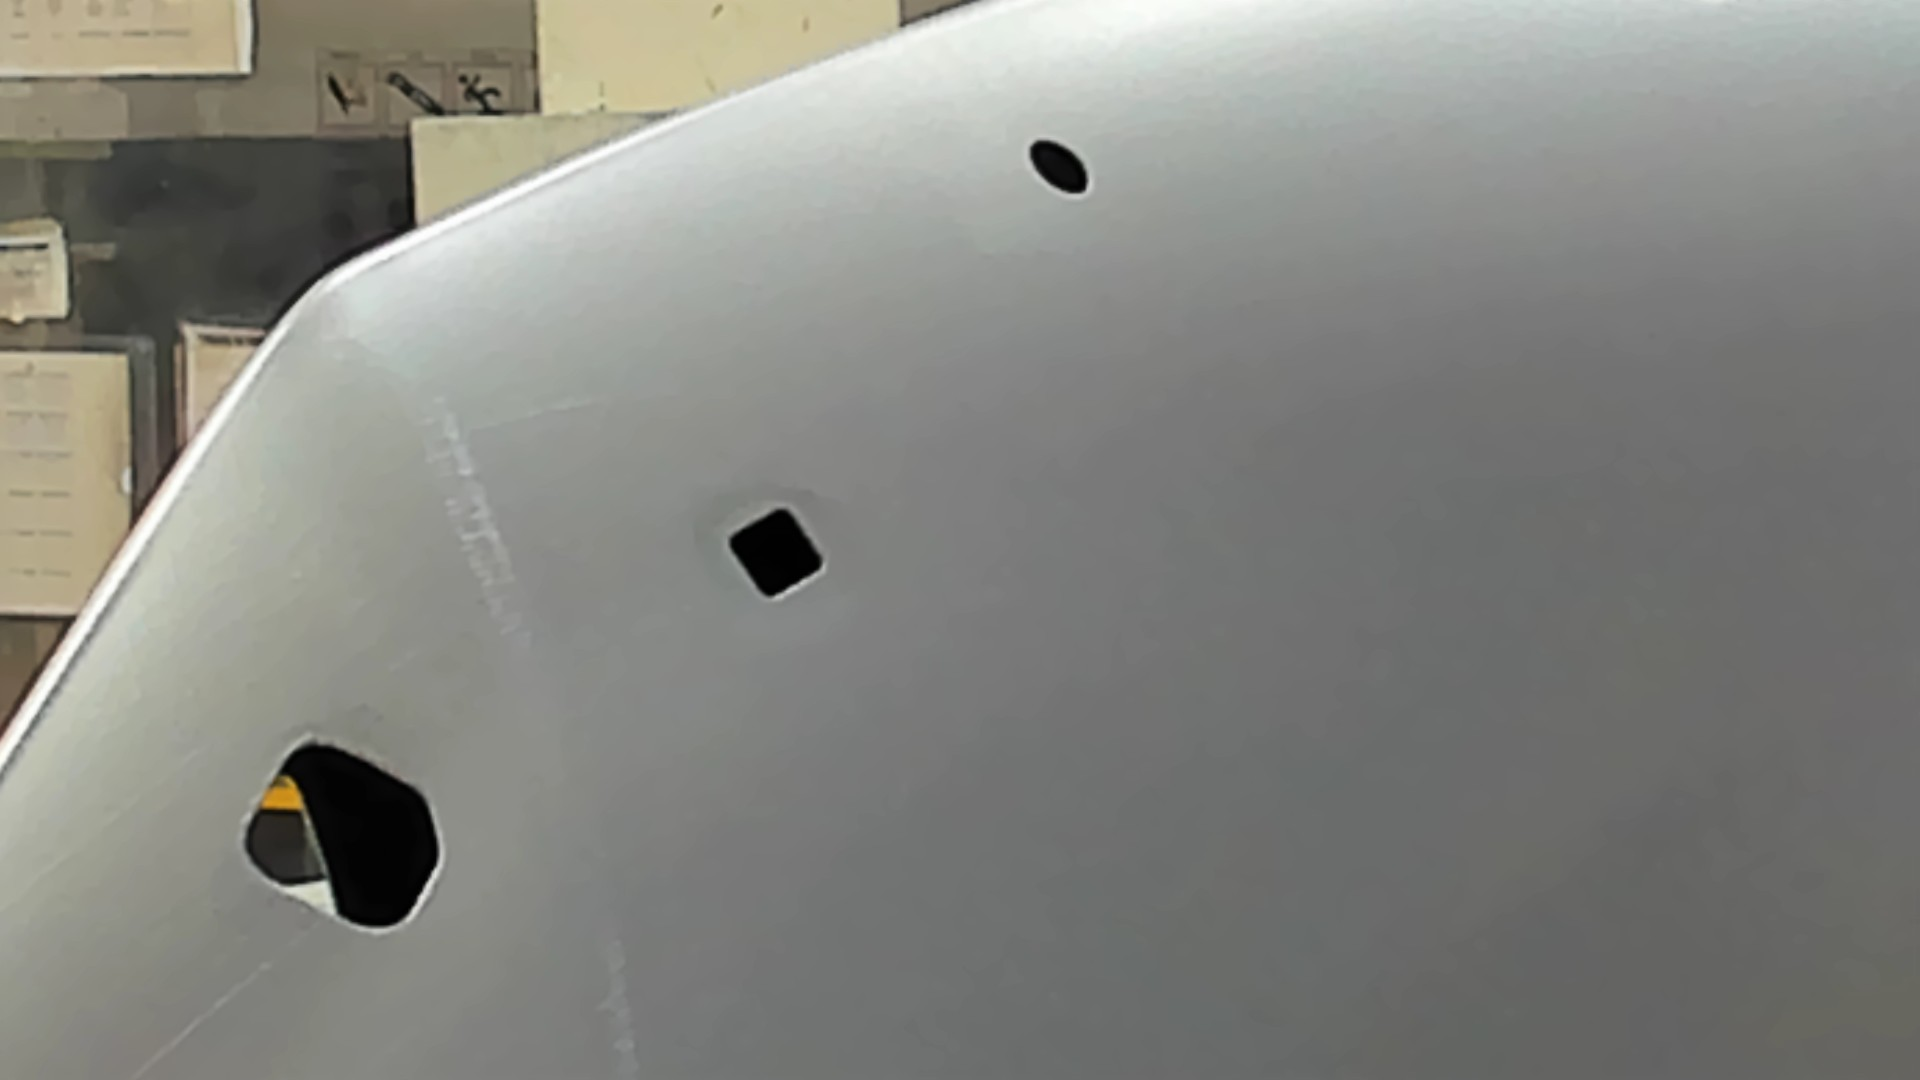chico: (1023, 135, 1095, 199)
grande: (237, 728, 447, 938)
mediano: (724, 500, 828, 604)
